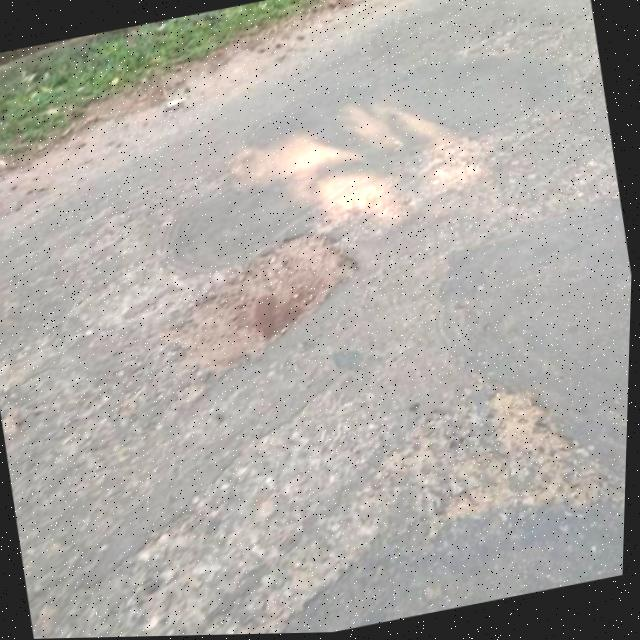Pothole: (145, 220, 379, 389), (483, 371, 581, 472)
